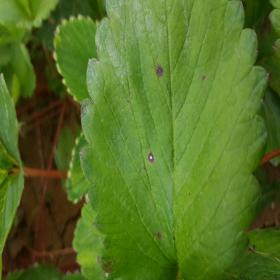Leaf Spot: (78, 0, 270, 279)
